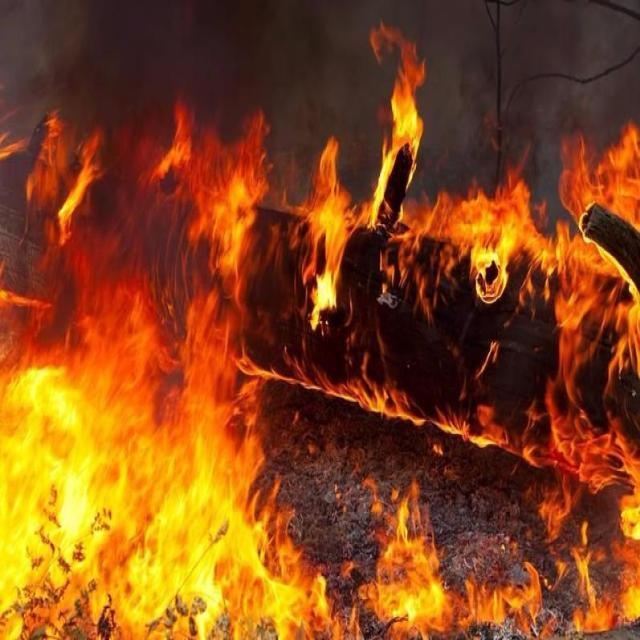Fire: (0, 290, 332, 640), (24, 95, 341, 288), (431, 118, 640, 366), (367, 492, 538, 630), (547, 384, 640, 630), (365, 22, 427, 230)
